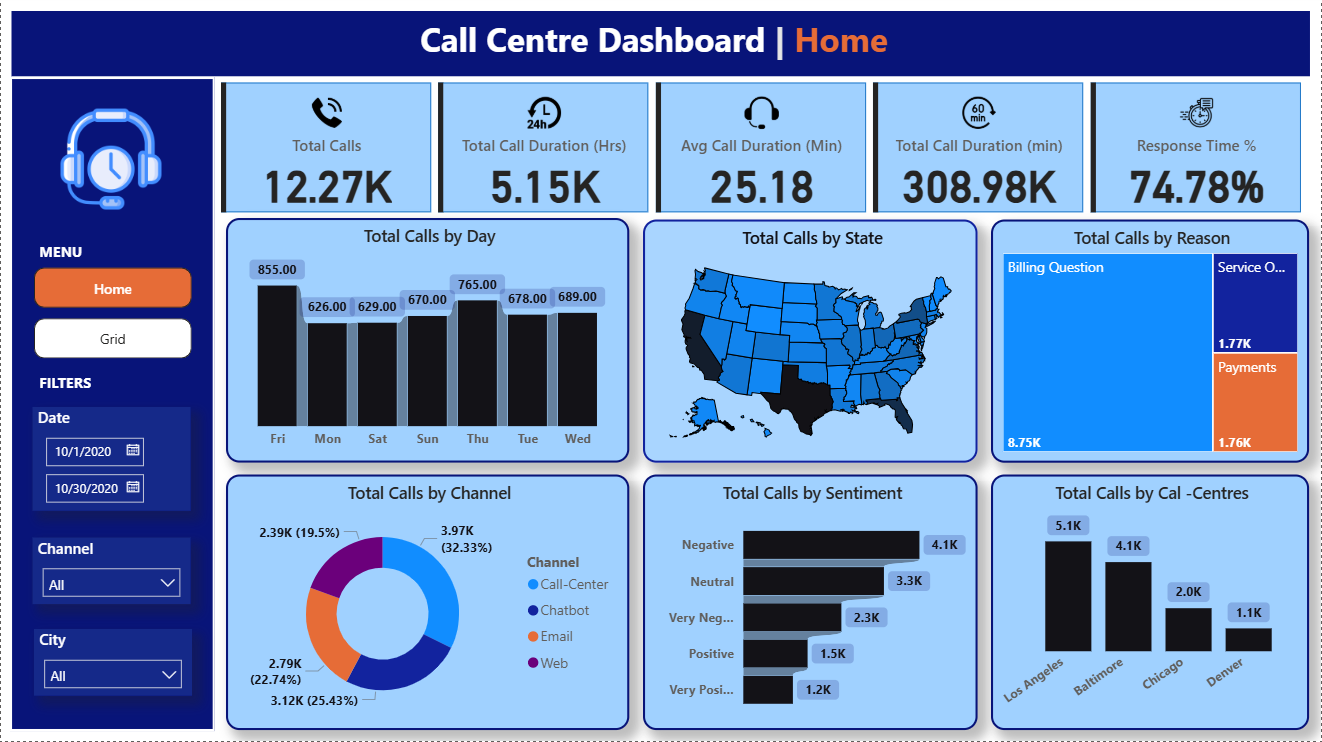

The dashboard page shown, as its layout file describes it:
{"tool":"powerbi","page":{"name":"Home","canvas":[1280,720],"ordinal":0},"visuals":[{"type":"textbox","box":[9.7,11.3,1259.8,63.1],"z":0},{"type":"textbox","box":[9,75.2,198.5,634.7],"z":1000},{"type":"cardVisual","fields":{"Data":["call1.Total calls","Date Table.Total call Duration (Hrs)","Date Table.Avg Call Duration (Min)","call1.Total Call Duration (min)","Date Table.Response Time %"]},"box":[207.6,75.2,1061.9,136.9],"z":2000},{"type":"textbox","box":[401.6,11.3,476.1,61.5],"z":3000},{"type":"columnChart","fields":{"Y":["call1.Total calls"],"Category":["Date Table.Day of Week (ddd)"]},"box":[218.1,212.1,391.1,237.6],"z":4000},{"type":"shapeMap","title":"Total Calls by State","fields":{"Category":["call1.State"],"Value":["call1.Total calls"]},"box":[622.7,213.6,324.9,236.1],"z":5000},{"type":"treemap","title":"Total Calls by Reason","fields":{"Values":["call1.Total calls"],"Group":["call1.Reason"]},"box":[961.1,213.6,308.3,236.1],"z":6000},{"type":"donutChart","fields":{"Series":["call1.Channel"],"Y":["call1.Total calls"]},"box":[218.1,461.8,391.1,248.2],"z":7000},{"type":"barChart","fields":{"Category":["call1.Sentiment"],"Y":["call1.Total calls"]},"box":[622.7,461.8,324.9,248.2],"z":8000},{"type":"clusteredColumnChart","fields":{"Y":["call1.Total calls"],"Category":["call1.Call-Centres City"]},"box":[961.1,461.8,308.3,248.2],"z":9000},{"type":"slicer","title":"Date","fields":{"Values":["Date Table.Date"]},"box":[30.1,395.6,153.4,100.8],"z":10000},{"type":"slicer","title":"Channel","fields":{"Values":["call1.Channel"]},"box":[30.1,521.9,153.4,64.7],"z":11000},{"type":"slicer","title":"City","fields":{"Values":["call1.City"]},"box":[31.6,610.7,153.4,64.7],"z":12000},{"type":"image","box":[52.6,99.3,108.3,112.8],"z":13000},{"type":"pageNavigator","box":[31.6,260.2,153.4,88.7],"z":14000},{"type":"textbox","box":[31.6,230.1,79.7,30.1],"z":15000},{"type":"textbox","box":[31.6,356.5,108.3,36.1],"z":16000}]}

Visuals, with their boxes in screenshot pixels (x1, y1, x2, y2), scaled from the page's 1280x720 canvas onto the 1322x742 screenshot:
textbox: (x1=10, y1=12, x2=1311, y2=77)
textbox: (x1=9, y1=77, x2=214, y2=732)
cardVisual - call1.Total calls x Date Table.Total call Duration (Hrs): (x1=214, y1=77, x2=1311, y2=219)
textbox: (x1=415, y1=12, x2=906, y2=75)
columnChart - call1.Total calls x Date Table.Day of Week (ddd): (x1=225, y1=219, x2=629, y2=463)
"Total Calls by State" shapeMap: (x1=643, y1=220, x2=979, y2=463)
"Total Calls by Reason" treemap: (x1=993, y1=220, x2=1311, y2=463)
donutChart - call1.Channel x call1.Total calls: (x1=225, y1=476, x2=629, y2=732)
barChart - call1.Sentiment x call1.Total calls: (x1=643, y1=476, x2=979, y2=732)
clusteredColumnChart - call1.Total calls x call1.Call-Centres City: (x1=993, y1=476, x2=1311, y2=732)
"Date" slicer: (x1=31, y1=408, x2=190, y2=512)
"Channel" slicer: (x1=31, y1=538, x2=190, y2=605)
"City" slicer: (x1=33, y1=629, x2=191, y2=696)
image: (x1=54, y1=102, x2=166, y2=219)
pageNavigator: (x1=33, y1=268, x2=191, y2=360)
textbox: (x1=33, y1=237, x2=115, y2=268)
textbox: (x1=33, y1=367, x2=144, y2=405)
